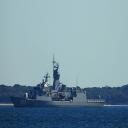Fragata: (10, 53, 107, 110)
